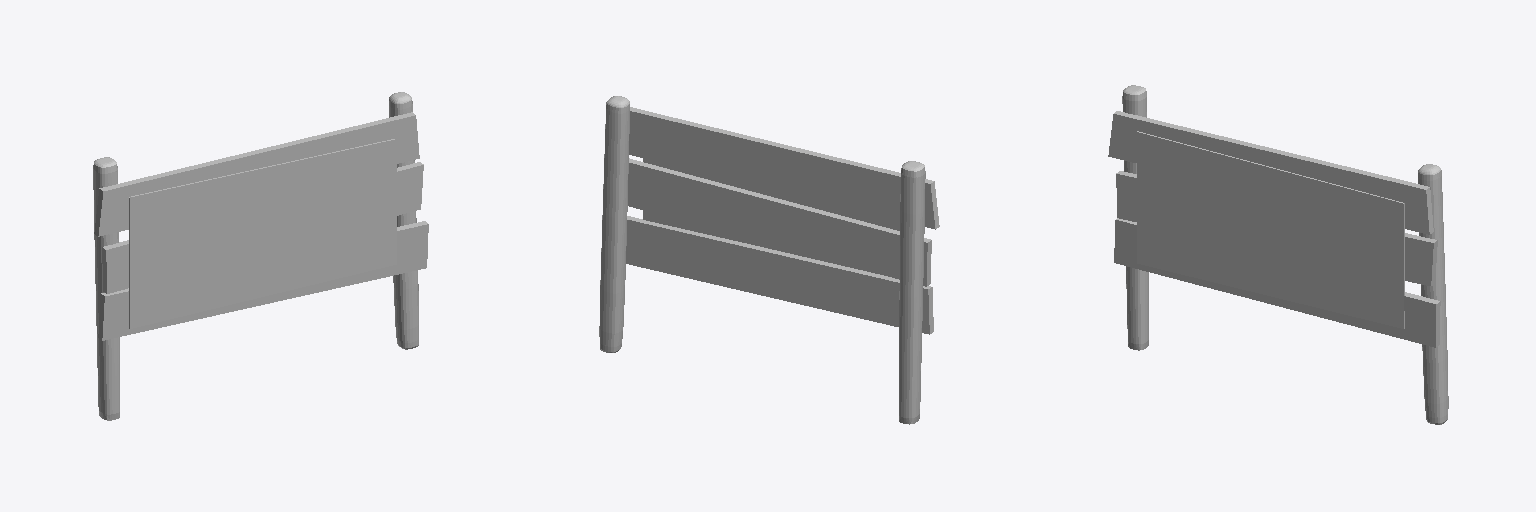
The model's file is WoodenSign.obj.
The picture shows the model from 3 angles: view 1: azimuth 30°, elevation 25°; view 2: azimuth 150°, elevation 25°; view 3: azimuth 330°, elevation 25°; orthographic projection.
Visible parts, largest first — view 1: Map_Cube.005, Plank_Cube.002, Plank.002_Cube.004, Post_Cube, Post.001_Cube.001, Plank.001_Cube.003; view 2: Plank.002_Cube.004, Plank_Cube.002, Plank.001_Cube.003, Post.001_Cube.001, Post_Cube, Map_Cube.005; view 3: Map_Cube.005, Plank_Cube.002, Plank.002_Cube.004, Post.001_Cube.001, Post_Cube, Plank.001_Cube.003.
Boxes of the visible parts, box(x1,y1,x2,y2) form: Map_Cube.005: box(129, 139, 396, 328); Plank_Cube.002: box(94, 112, 419, 236); Plank.002_Cube.004: box(98, 221, 428, 340); Post_Cube: box(93, 157, 119, 420); Post.001_Cube.001: box(389, 92, 418, 349); Plank.001_Cube.003: box(102, 162, 423, 293); Plank.002_Cube.004: box(626, 216, 933, 334); Plank_Cube.002: box(629, 107, 939, 229); Plank.001_Cube.003: box(628, 158, 931, 286); Post.001_Cube.001: box(599, 96, 629, 352); Post_Cube: box(899, 161, 925, 424); Map_Cube.005: box(643, 158, 899, 274); Map_Cube.005: box(1137, 131, 1404, 328); Plank_Cube.002: box(1108, 111, 1433, 234); Plank.002_Cube.004: box(1114, 218, 1440, 347); Post.001_Cube.001: box(1418, 164, 1448, 424); Post_Cube: box(1122, 85, 1148, 350); Plank.001_Cube.003: box(1116, 171, 1437, 285).
Bounding box in the file's own units: 4.63 × 3.48 × 0.4119.